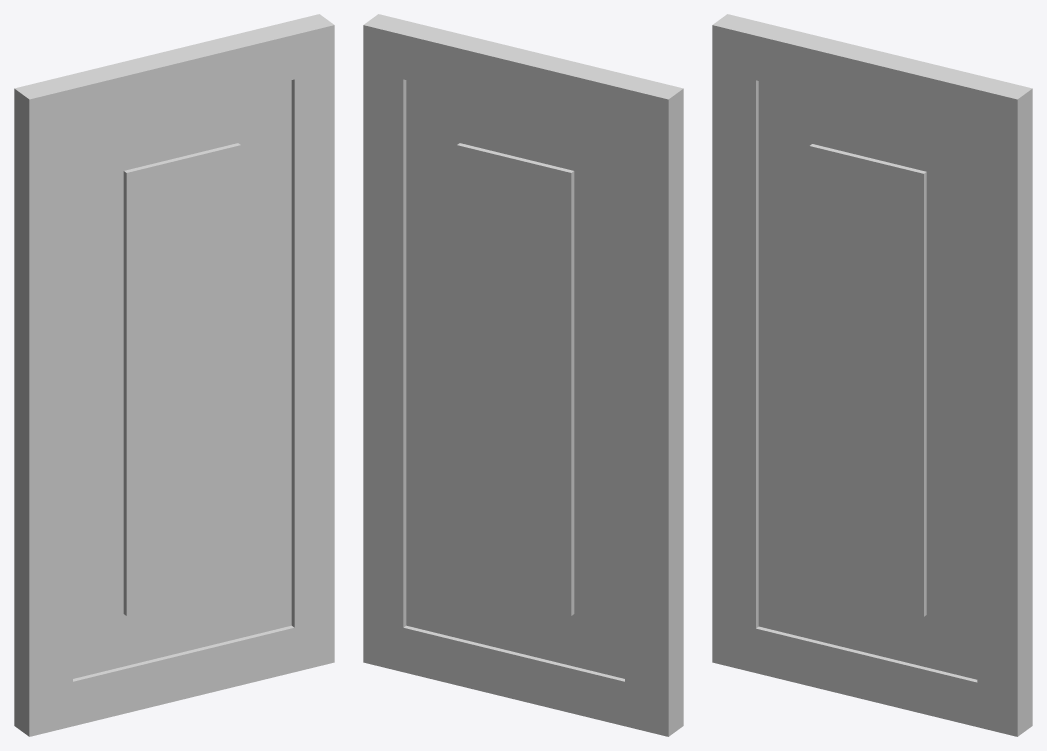
Rendered from door.glb.
The picture shows the model from 3 angles, left to right: view 1: azimuth 30°, elevation 25°; view 2: azimuth 150°, elevation 25°; view 3: azimuth 330°, elevation 25°; orthographic projection.
Parts seen in each view (by area): view 1: Door 3; view 2: Door 3; view 3: Door 3.
Part boxes in pixels (box(x1,y1,x2,y2)): Door 3: box(14, 14, 334, 736); Door 3: box(363, 14, 683, 736); Door 3: box(712, 14, 1032, 736).
Bounding box in the file's own units: 1.01 × 2.02 × 0.0871.
Materials: 1 (1 with a texture image).
